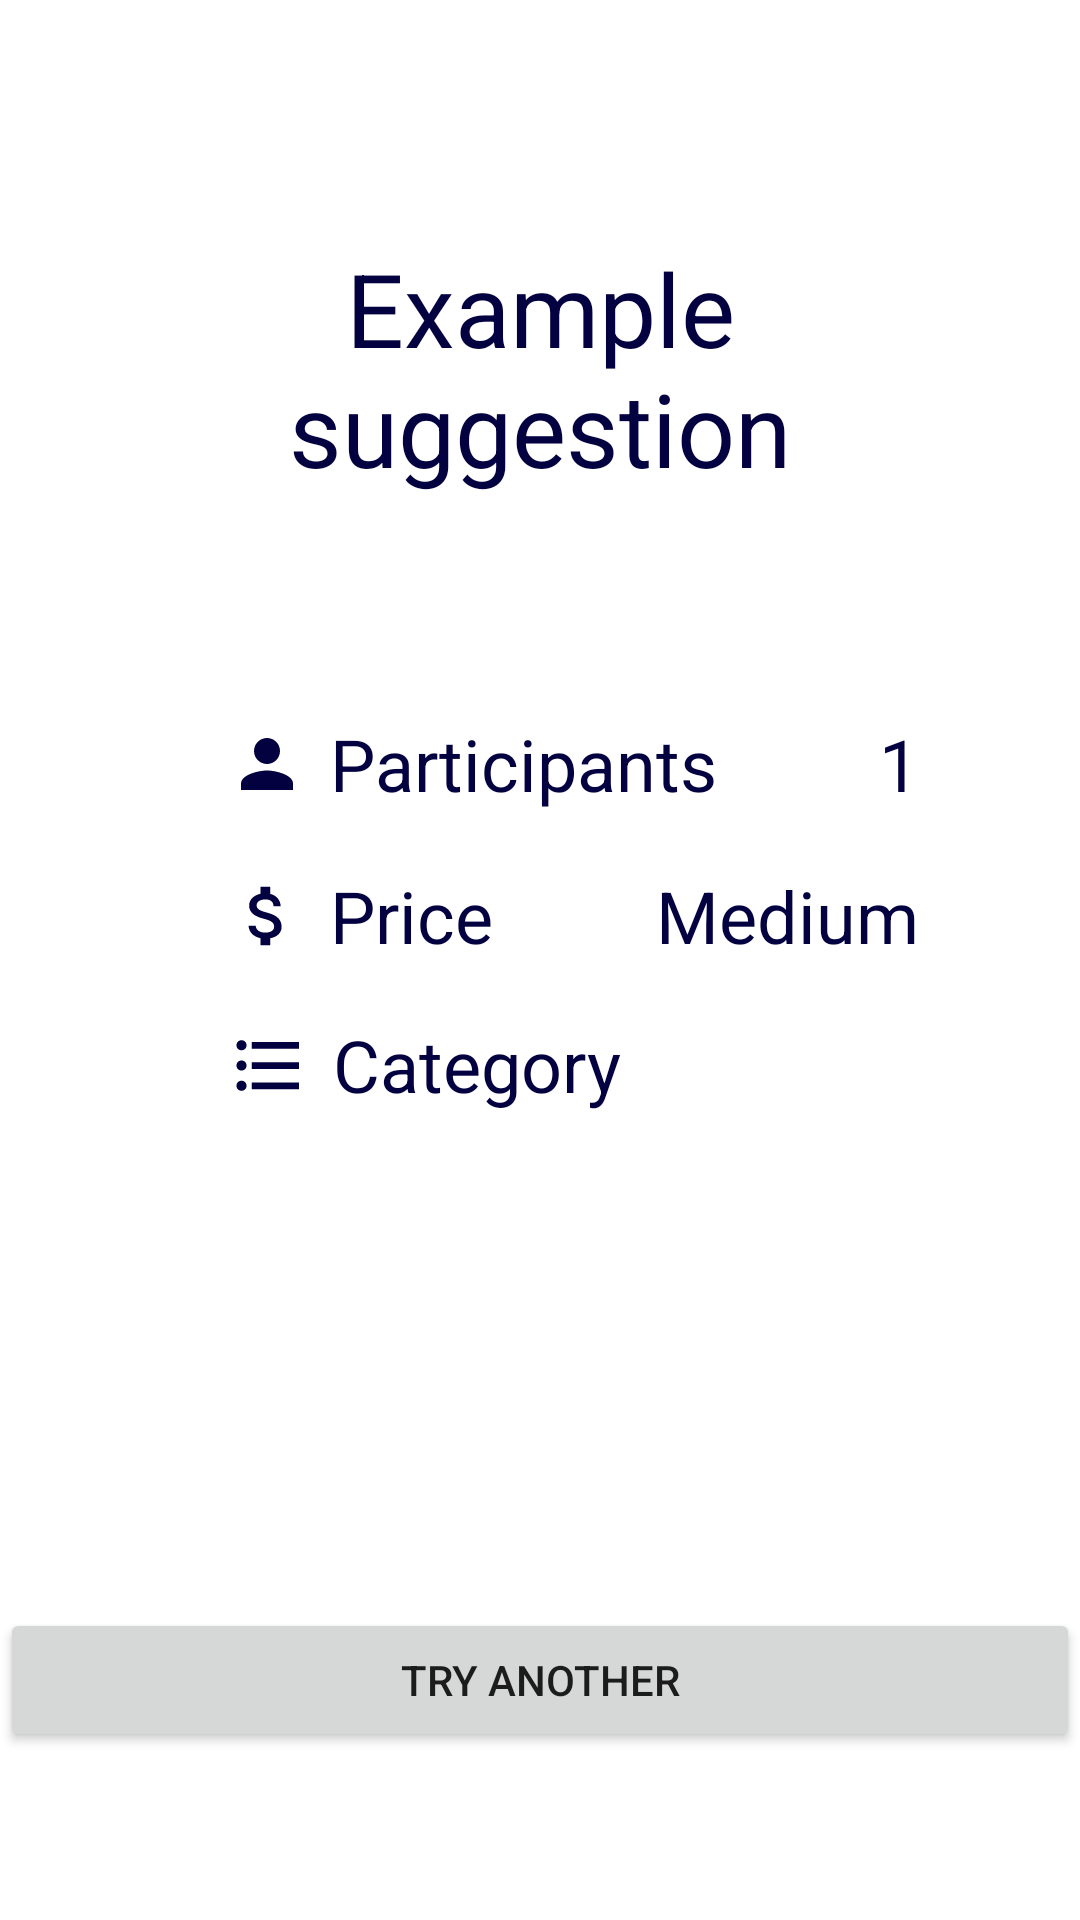

Where icons sit on this 1080px x 1920px app screen, as (x1, y1, x2, y2):
attach money: (248, 886, 282, 946)
format list bulleted: (236, 1040, 299, 1091)
person: (241, 738, 293, 790)
